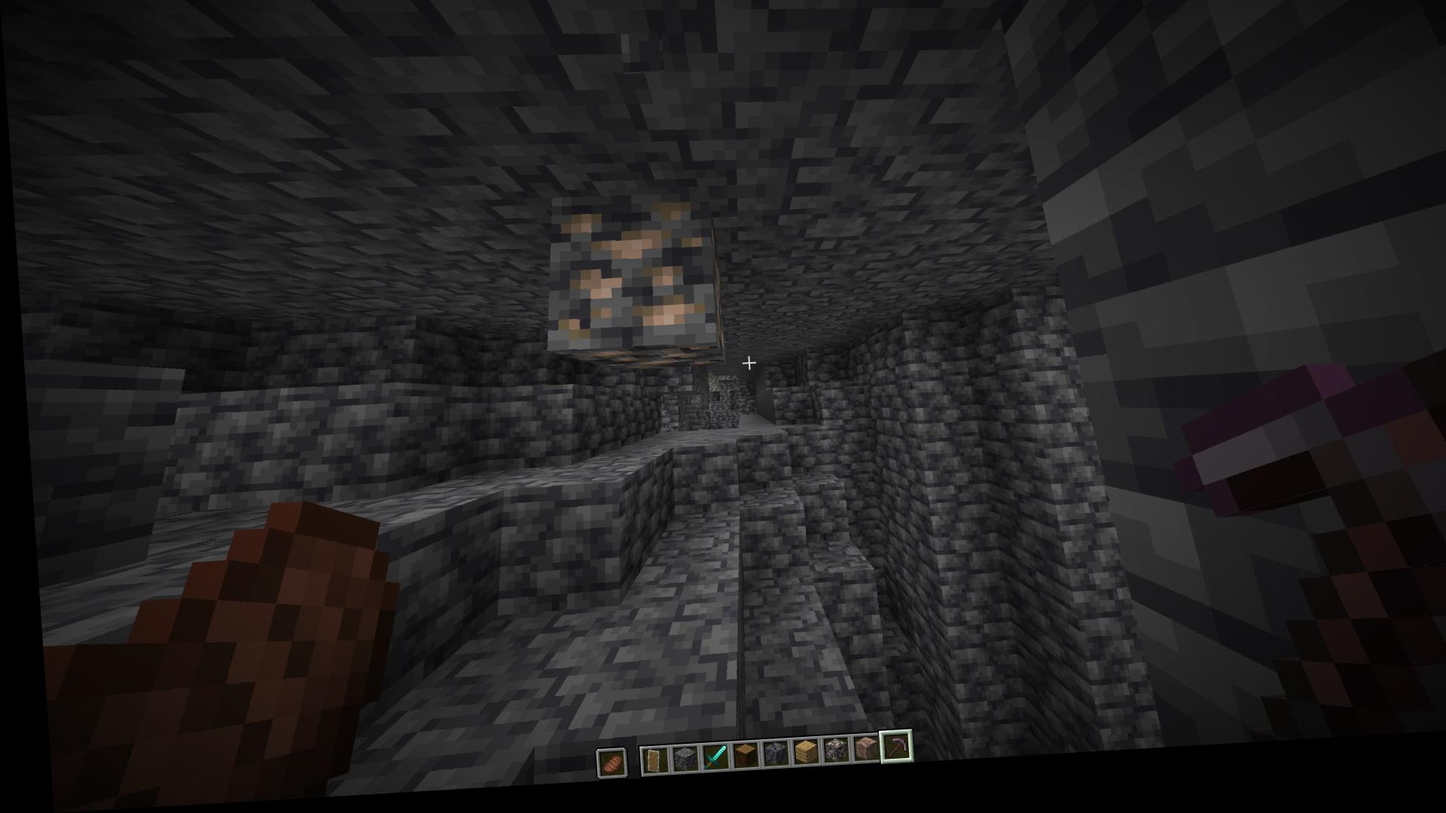iron ore: (544, 200, 704, 354), (570, 348, 717, 380)
